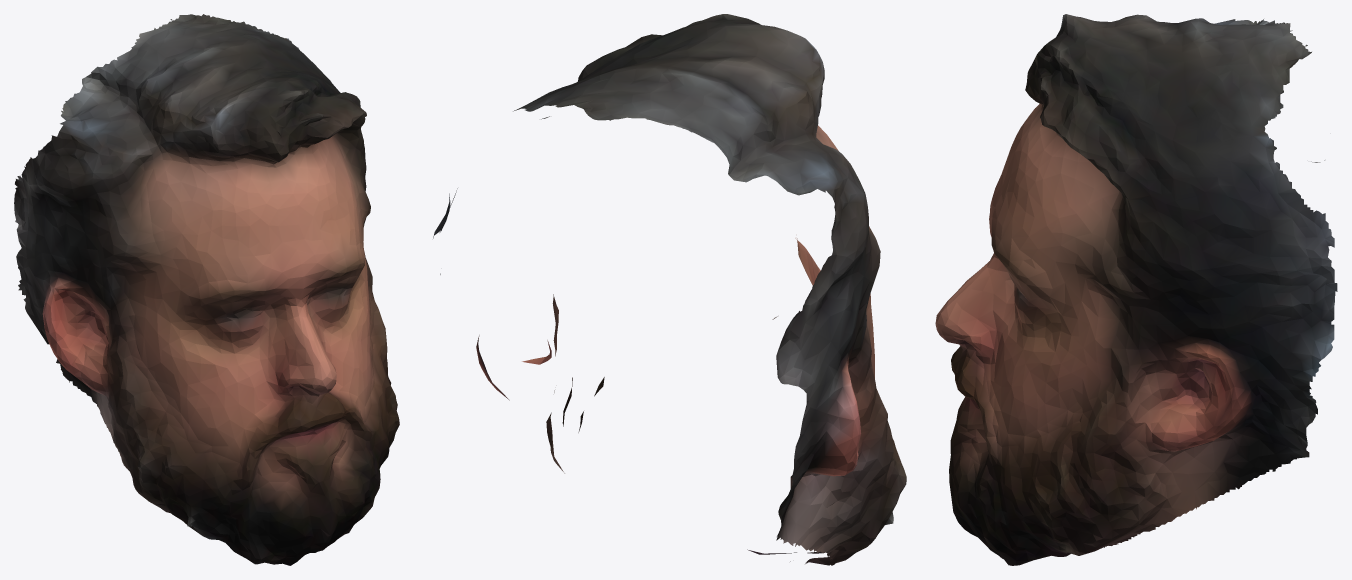
File: cg-face-scan2-optimized.glb
The picture shows the model from 3 angles, left to right: view 1: azimuth 30°, elevation 25°; view 2: azimuth 150°, elevation 25°; view 3: azimuth 270°, elevation 25°; orthographic projection. The views are drawn at different scales.
Bounding box in the file's own units: 1.74 × 2.45 × 1.73.
